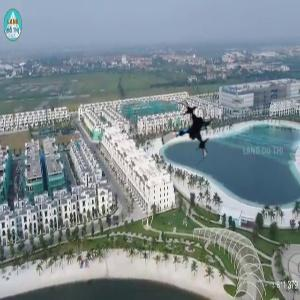drone: (156, 101, 223, 168)
